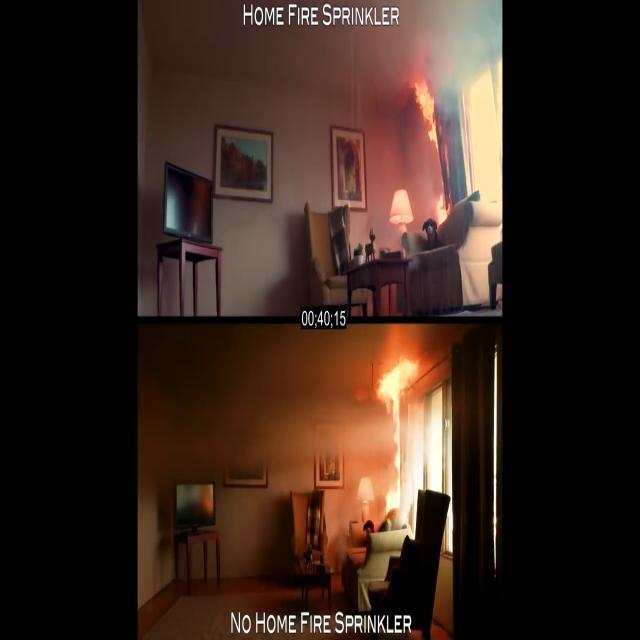Fire: (358, 349, 450, 532), (413, 70, 449, 222), (434, 188, 451, 226)
